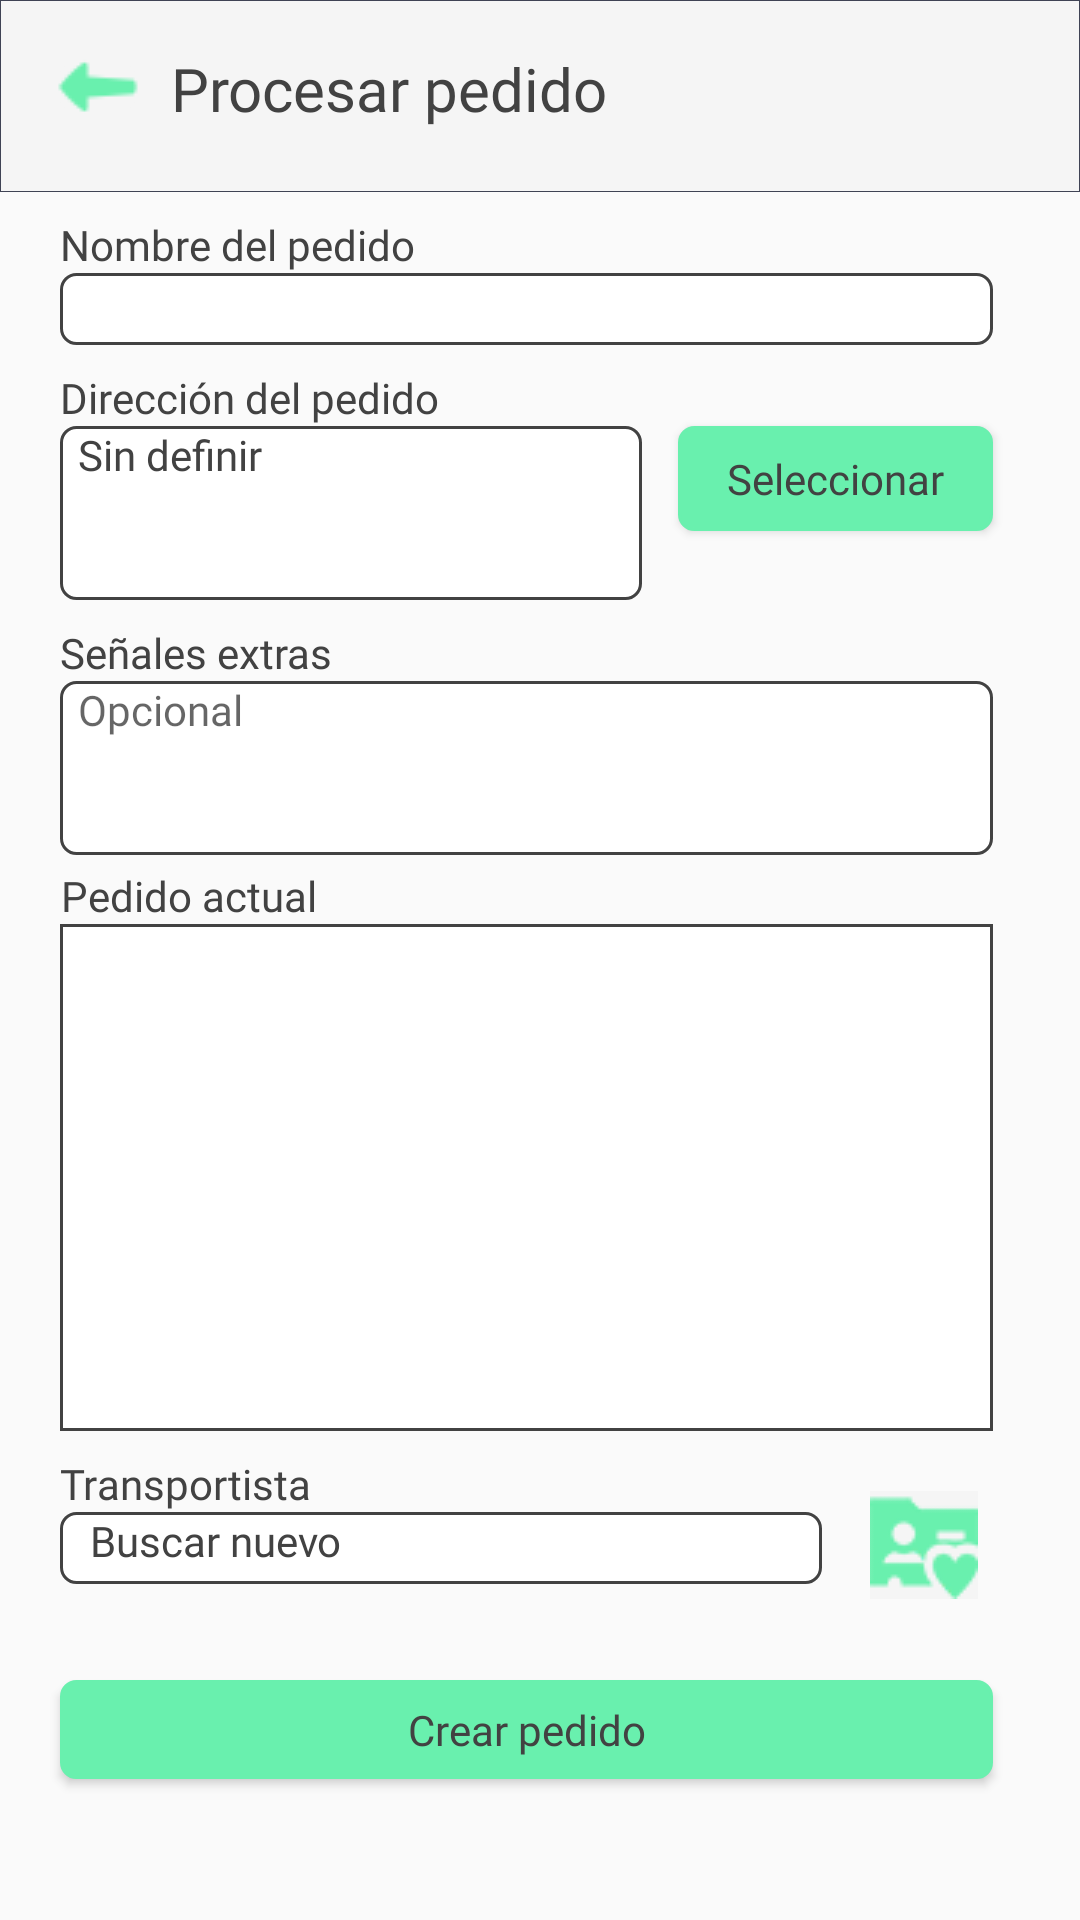

Named icons in this screenshot (1080px×1920px) and their centers, point (x, y):
back: point (98, 87)
